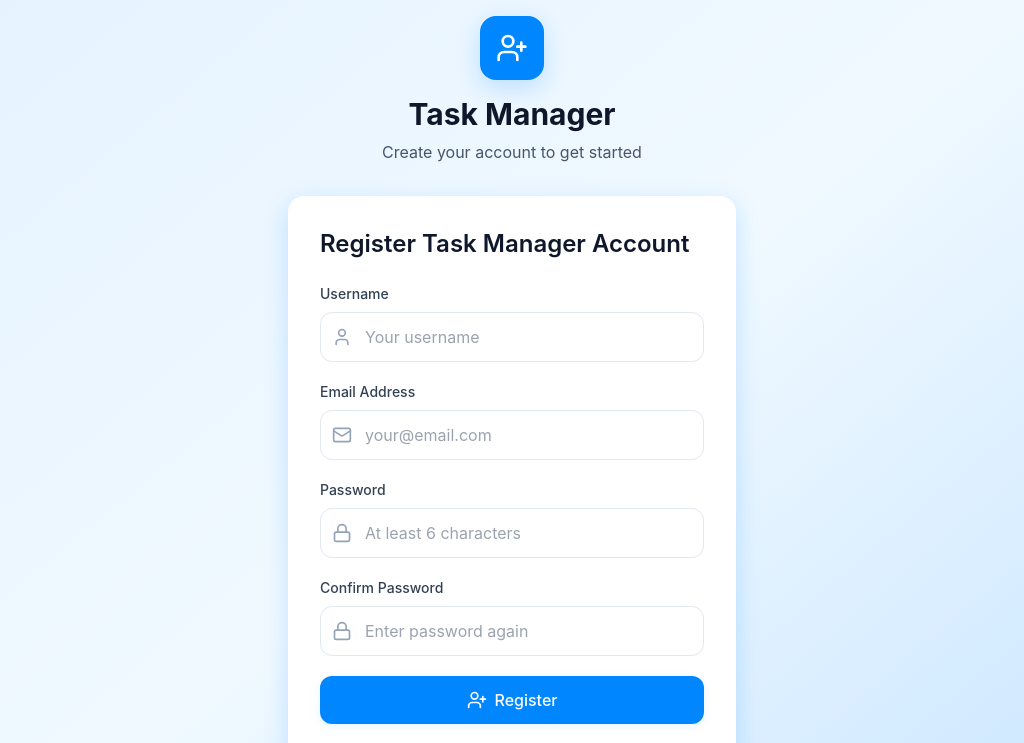
Test: RegisterPage › should show error when password is too short
Type "testuser" into the field labelled "Username" at (512, 337), box [320,312,704,362]
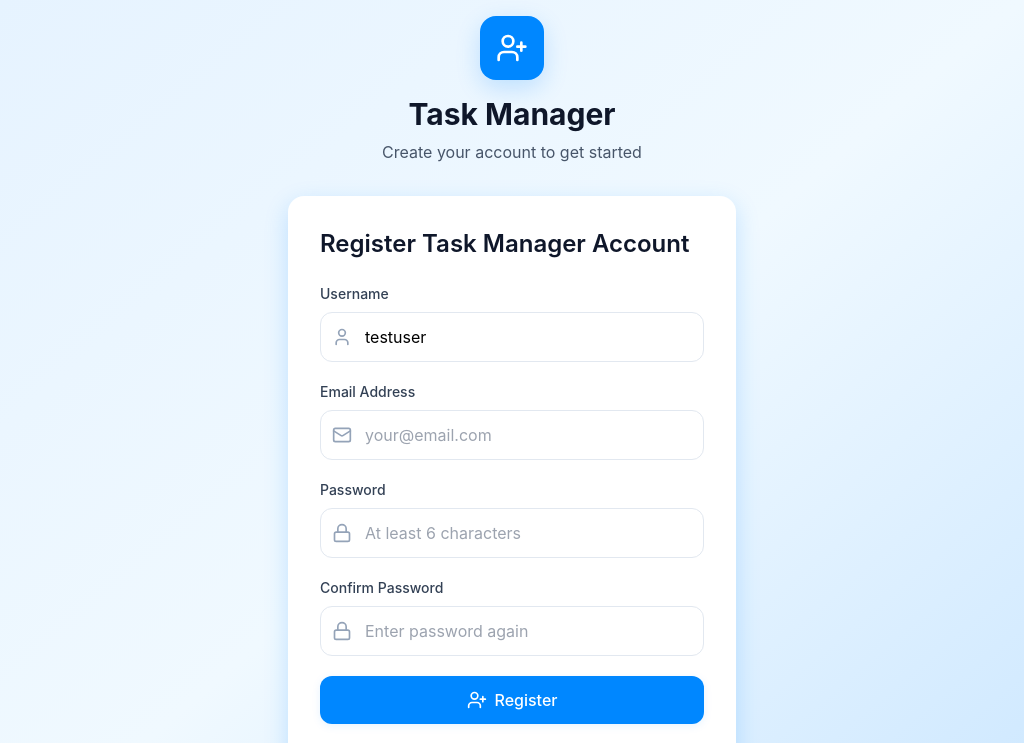
Type "test@example.com" into the field labelled "Email Address" at (512, 435), box [320,410,704,460]
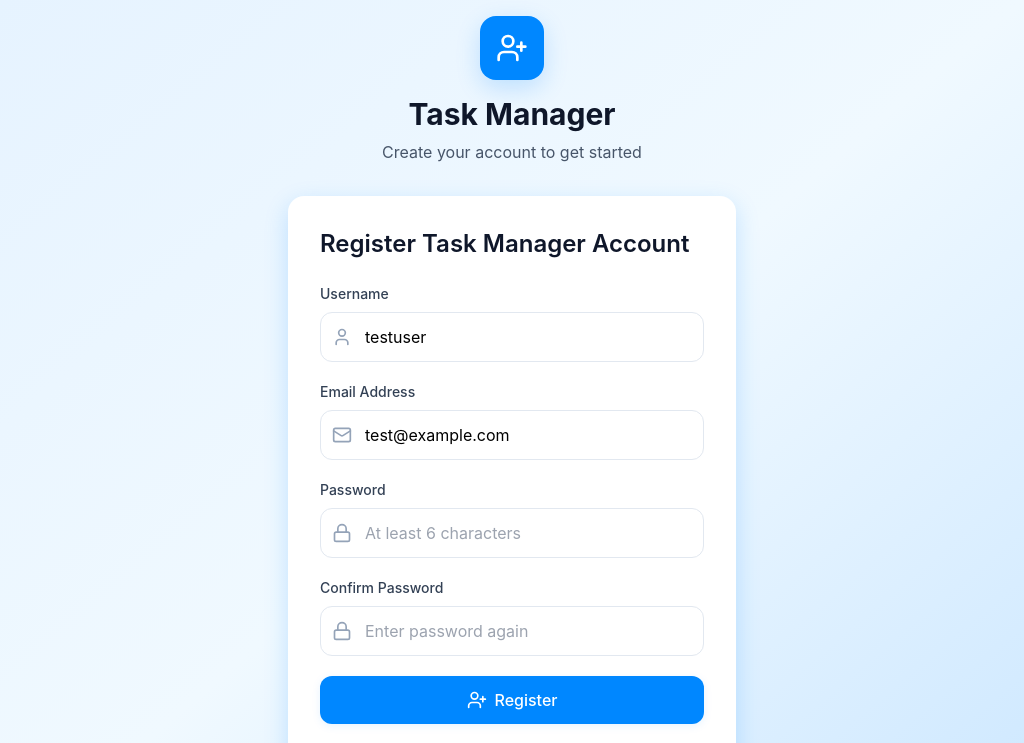
Type "12345" into the password field labelled "Password" at (512, 533), box [320,508,704,558]
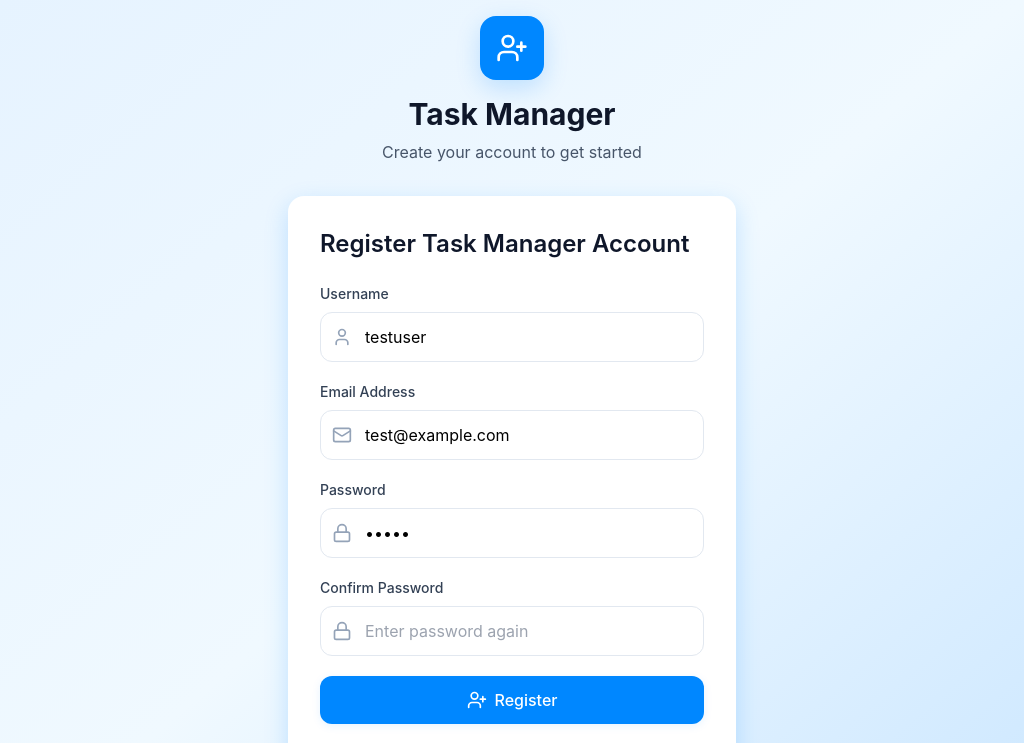
Type "12345" into the password field labelled "Confirm Password" at (512, 631), box [320,606,704,656]
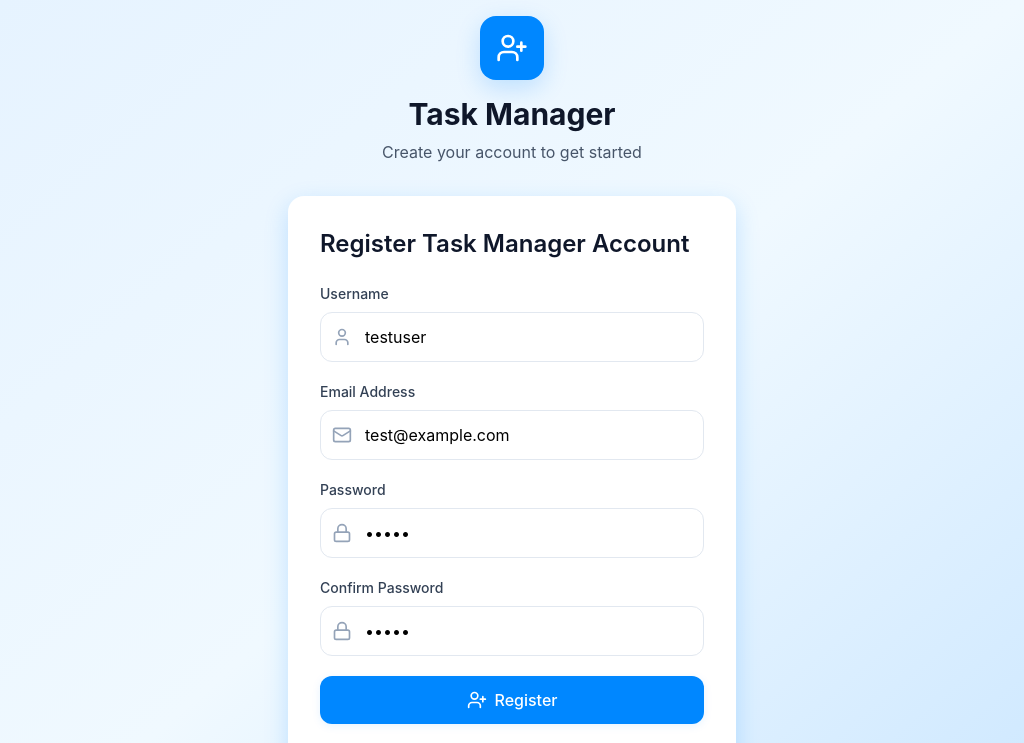
Click the button "Register" at (512, 700), box [320,676,704,724]
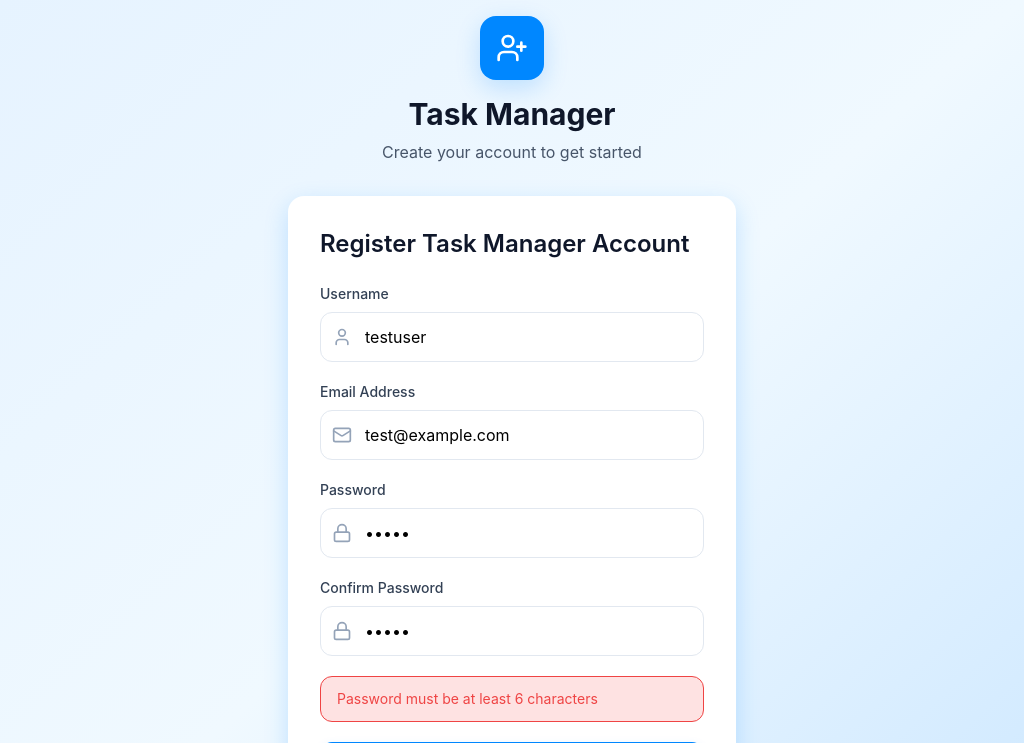
Expected: the text "Password must be at least 6 characters" is shown, [320,676,704,722]
